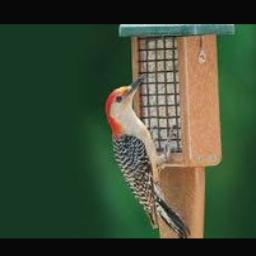Woodpecker: (106, 74, 190, 236)
